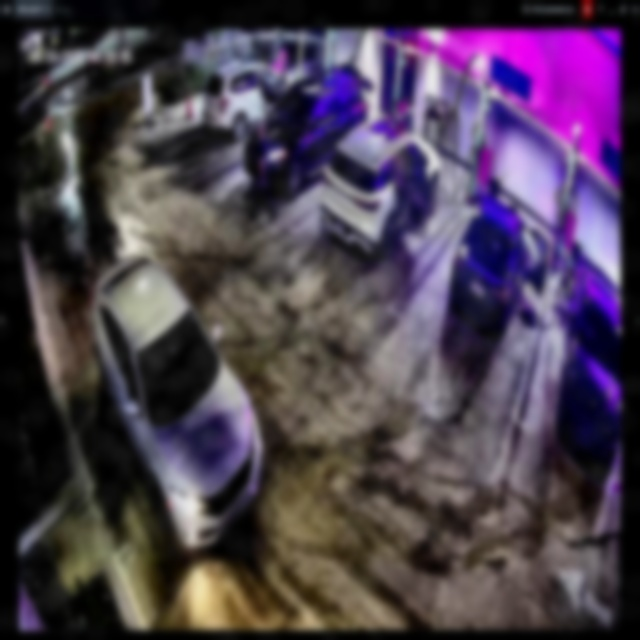Car: (89, 254, 262, 550), (323, 112, 438, 260), (245, 65, 368, 202), (450, 196, 550, 336), (202, 64, 295, 145)
